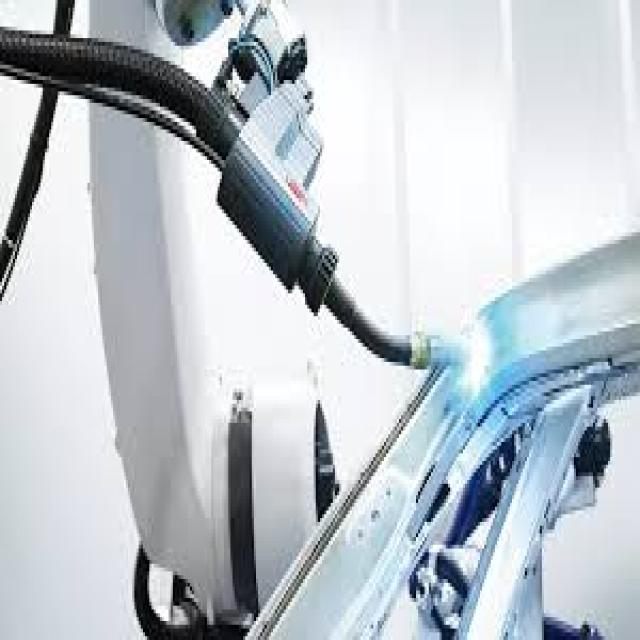welding: (469, 322, 488, 383)
